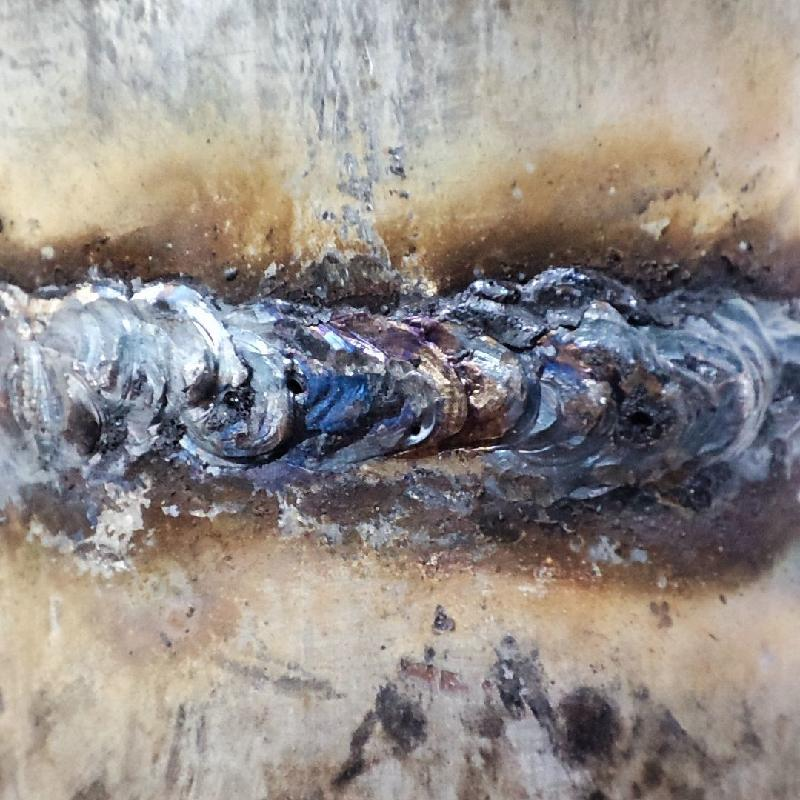Surface_pores: (609, 391, 682, 445), (266, 353, 318, 409), (398, 410, 444, 451)
good: (3, 255, 799, 513)
